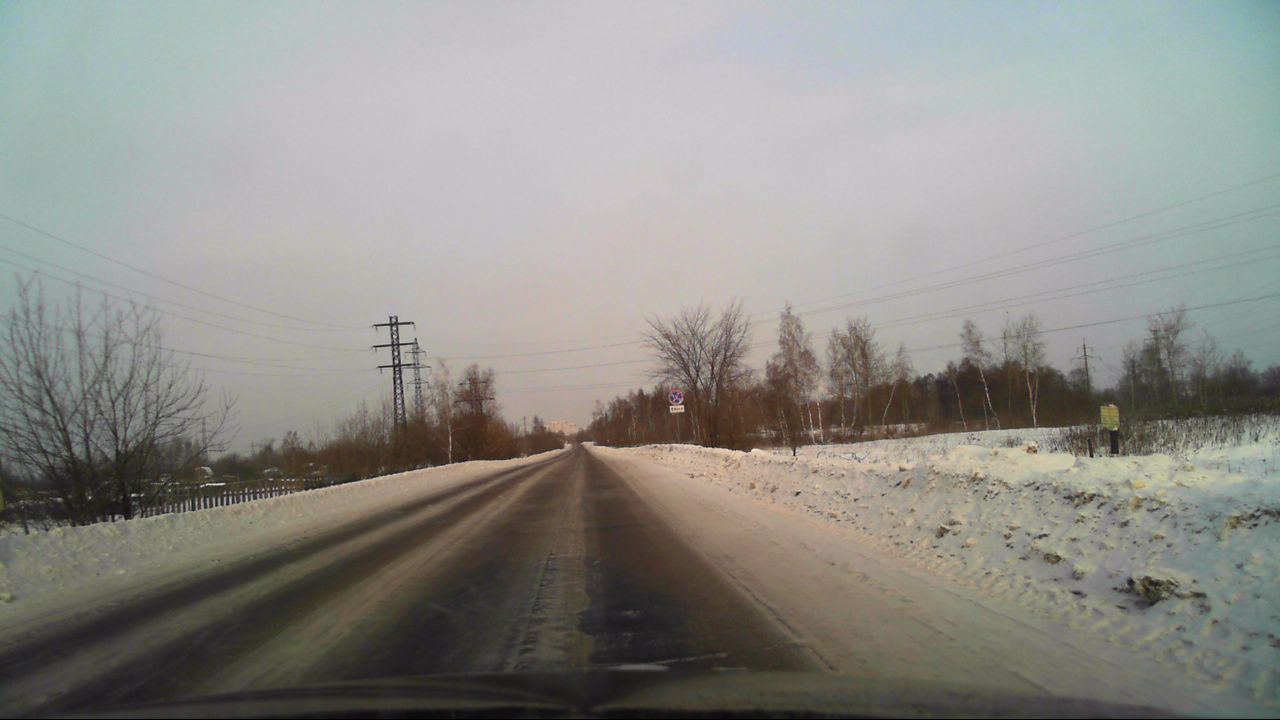No Parking: (667, 387, 683, 404)
